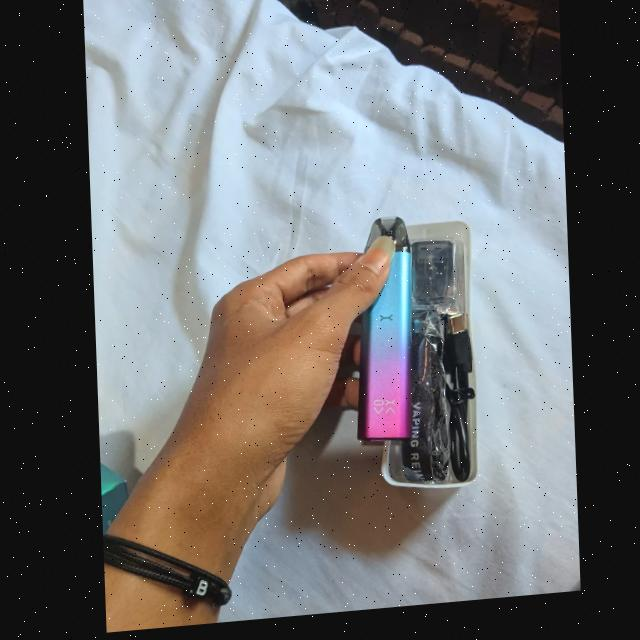vape: (349, 215, 416, 455)
